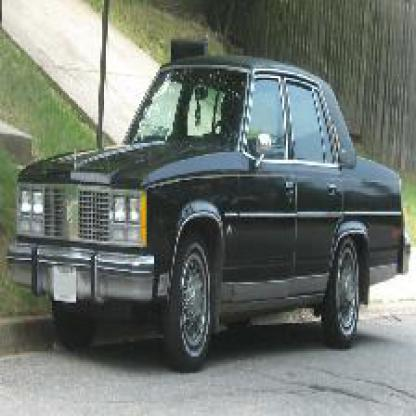not_emergency: (9, 52, 414, 370)
